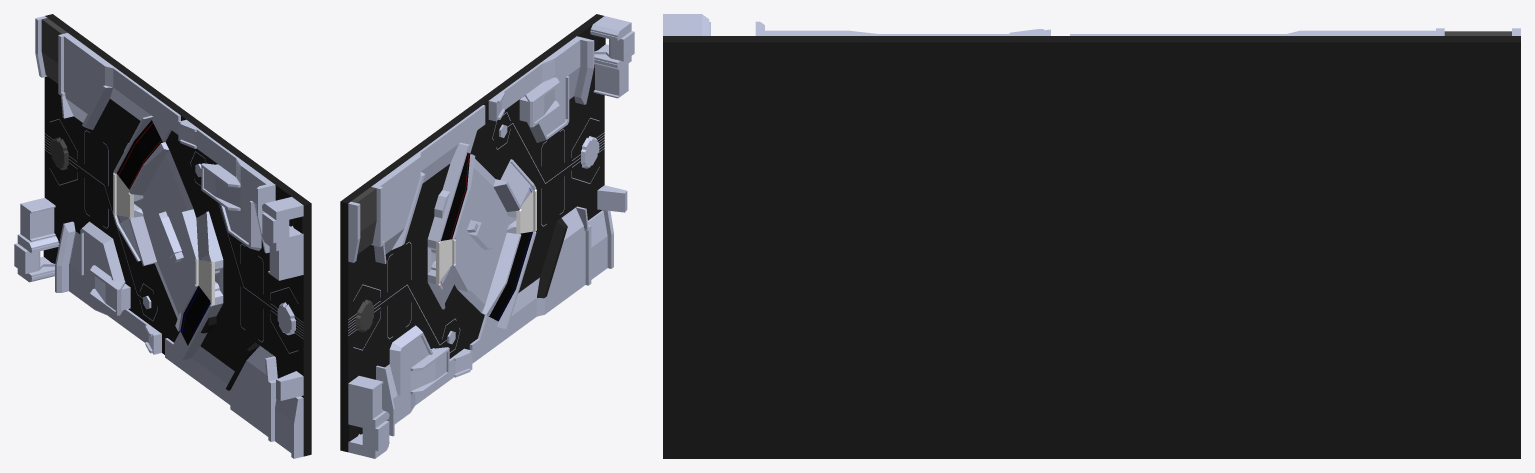
3 renders of one model, left to right at view 1: azimuth 30°, elevation 25°; view 2: azimuth 150°, elevation 25°; view 3: azimuth 270°, elevation 25°, orthographic. The views are drawn at different scales.
Visible parts, largest first — view 1: ÇÐ³ý-À003 (×2), ÇÐ³ý-À006, ÇÐ³ý-ÀÉì007, ÇÐ³ý-ÀÉì008, ÇÐ³ý-À004 (×2), ÇÐ³ý-À001 (×2), ÇÐ³ý-ÀÉì012, ÇÐ³ý-À002 (×2), ÇÐ³ý-ÀÉì006, ÇÐ³ý-ÀÉì014, Í¹Ì¨-ÀÉì048, ÇÐ³ý-ÀÉì010 (+36 smaller); view 2: ÇÐ³ý-À003 (×2), ÇÐ³ý-À006, ÇÐ³ý-ÀÉì008, ÇÐ³ý-ÀÉì007, ÇÐ³ý-À004 (×2), ÇÐ³ý-ÀÉì014, ÇÐ³ý-À002 (×2), ÇÐ³ý-À001 (×2), ÇÐ³ý-ÀÉì006, ÇÐ³ý-ÀÉì012, Í¹Ì¨-ÀÉì048, ÇÐ³ý-ÀÉì010 (+34 smaller); view 3: ÇÐ³ý-À003, Í¹Ì¨-ÀÉì019, ÇÐ³ý-ÀÉì007.
Boxes of the visible parts, x1,y1,x2,y2 form: ÇÐ³ý-À003 (×2): (14,14,311,456); ÇÐ³ý-À006: (134,150,223,318); ÇÐ³ý-ÀÉì007: (64,34,115,122); ÇÐ³ý-ÀÉì008: (230,346,273,436); ÇÐ³ý-À004 (×2): (178,119,303,243); ÇÐ³ý-À001 (×2): (117,120,240,210); ÇÐ³ý-ÀÉì012: (69,231,110,309); ÇÐ³ý-À002 (×2): (90,265,210,345); ÇÐ³ý-ÀÉì006: (113,68,180,134); ÇÐ³ý-ÀÉì014: (225,164,272,243); Í¹Ì¨-ÀÉì048: (20,197,55,241); ÇÐ³ý-ÀÉì010: (165,338,230,404); ÇÐ³ý-À003 (×2): (340,14,605,452); ÇÐ³ý-À006: (427,159,516,312); ÇÐ³ý-ÀÉì008: (536,207,585,316); ÇÐ³ý-ÀÉì007: (374,152,420,253); ÇÐ³ý-À004 (×2): (488,31,634,121); ÇÐ³ý-ÀÉì014: (540,38,580,135); ÇÐ³ý-À002 (×2): (410,231,532,394); ÇÐ³ý-À001 (×2): (441,77,559,240); ÇÐ³ý-ÀÉì006: (418,105,485,171); ÇÐ³ý-ÀÉì012: (385,336,429,424); Í¹Ì¨-ÀÉì048: (348,376,383,419); ÇÐ³ý-ÀÉì010: (469,298,536,363); ÇÐ³ý-À003: (663,36,1520,458); Í¹Ì¨-ÀÉì019: (663,14,710,35); ÇÐ³ý-ÀÉì007: (1286,30,1435,35).
Size of the model in its own units: 94.49 by 591 by 1102.
